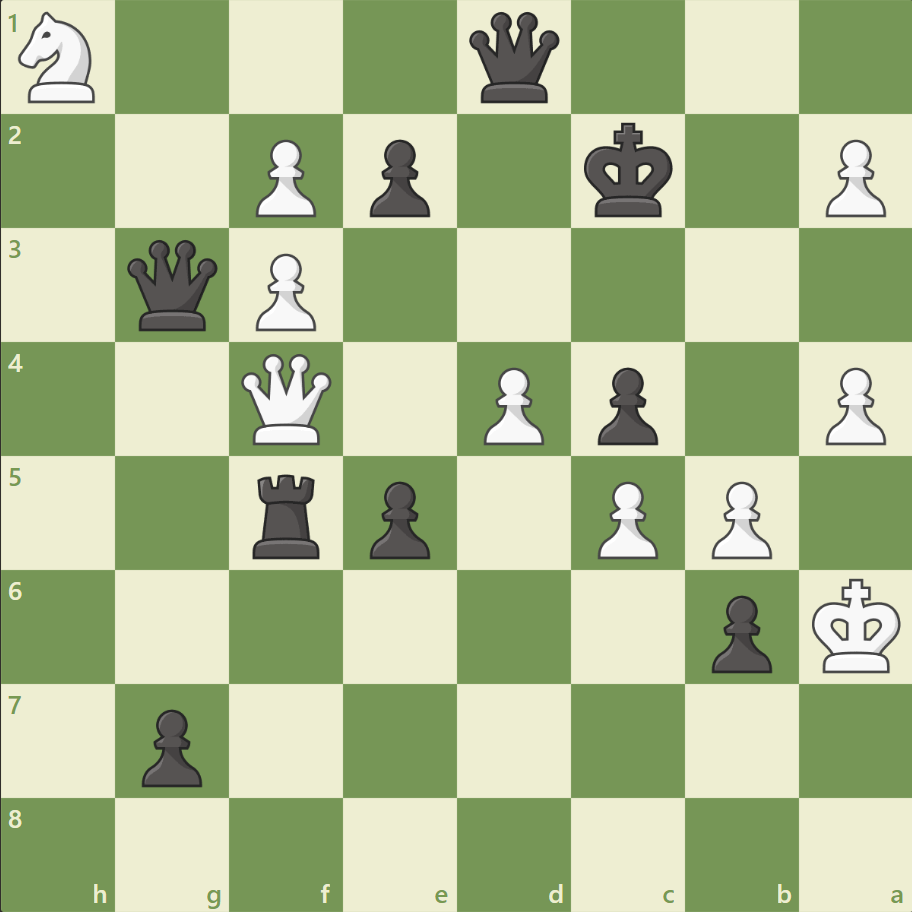K: (806, 571, 906, 679)
N: (11, 7, 108, 110)
P: (701, 473, 776, 564), (474, 359, 549, 450), (247, 246, 322, 337), (247, 132, 322, 223), (588, 473, 662, 564), (815, 359, 889, 450), (815, 132, 889, 223)
Q: (237, 349, 336, 449)
k: (579, 117, 679, 225)
p: (133, 700, 208, 791), (701, 586, 776, 677), (361, 473, 435, 564), (588, 359, 662, 450), (361, 132, 435, 223)
q: (124, 236, 223, 335), (464, 9, 563, 108)
r: (246, 466, 329, 563)
